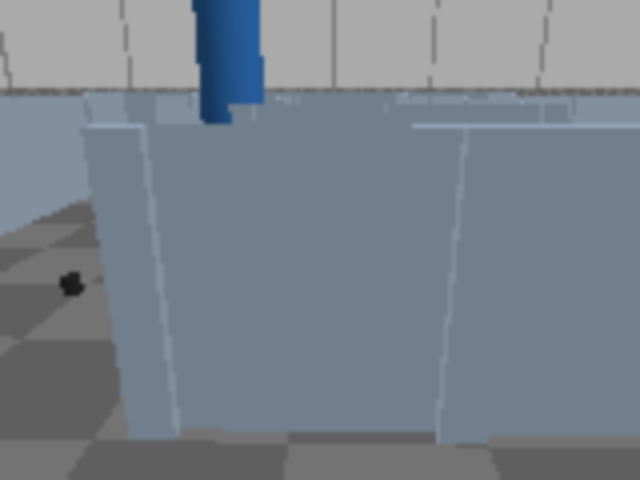puck: (61, 274, 82, 296)
